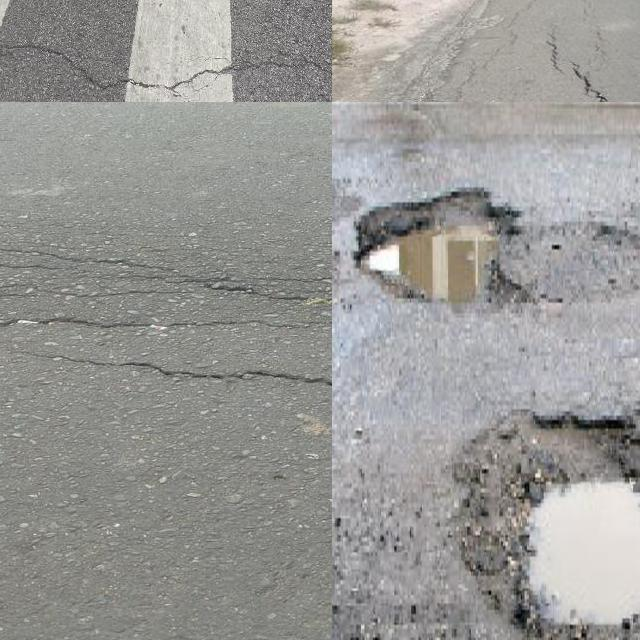Lubang: (458, 404, 640, 640), (355, 180, 640, 305)
Melintang: (0, 240, 332, 313), (0, 34, 332, 102), (28, 346, 332, 397)
